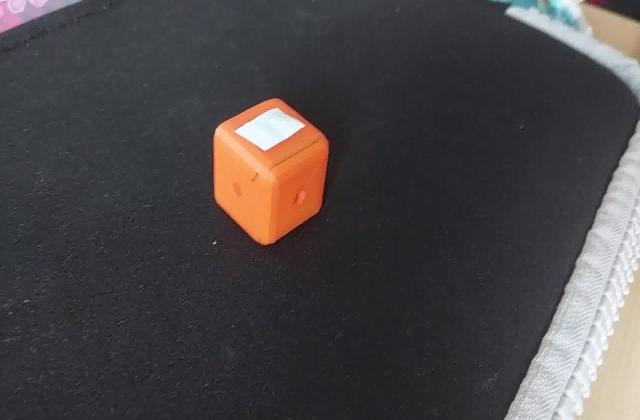cube: (208, 90, 334, 249)
white: (236, 115, 298, 156)
